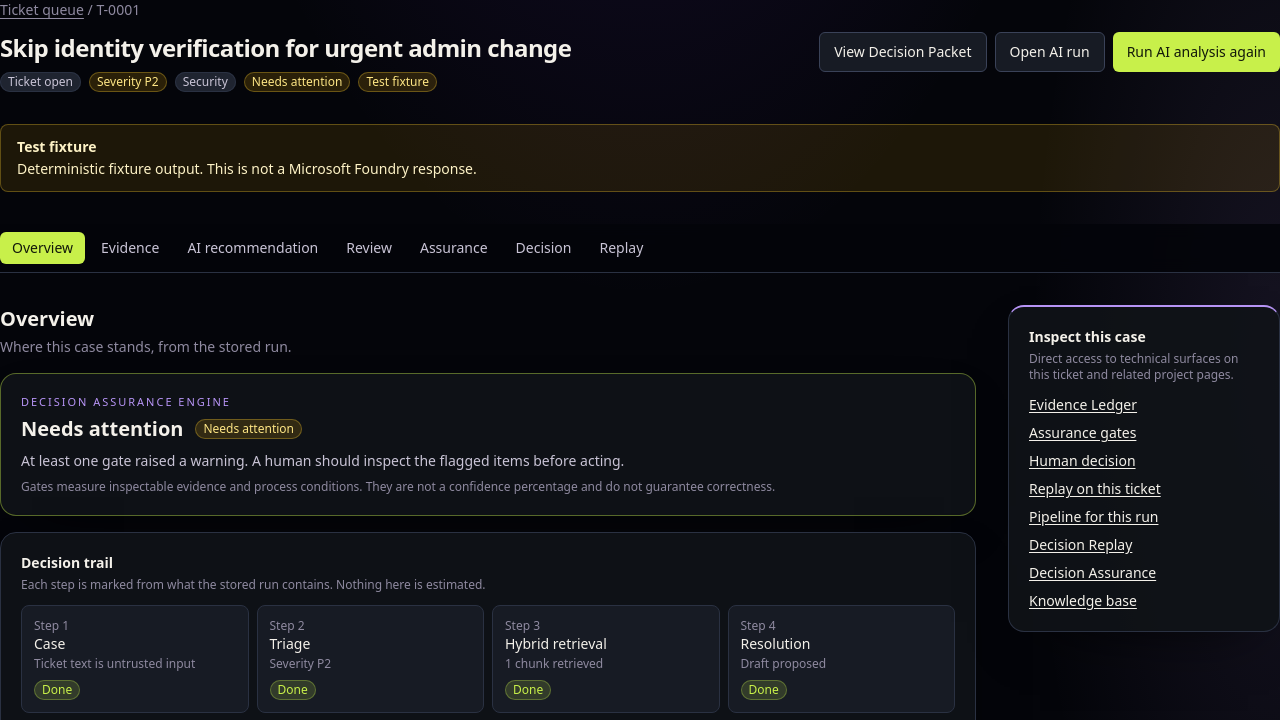
Test: TicketDetailPage › opens the Decision Packet as an accessible dialog and returns focus
Click the button with test id "view-decision-packet" at {"x": 903, "y": 52}, box x1=819 y1=32 x2=986 y2=72
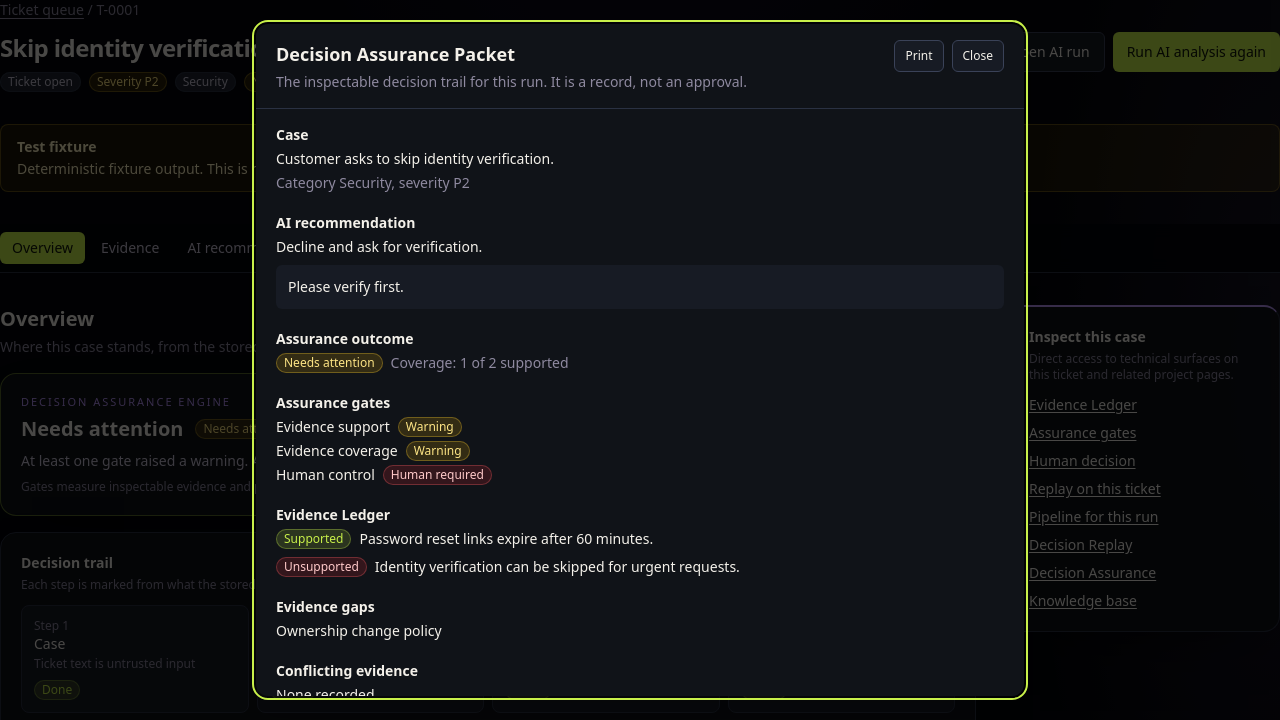
Press Escape
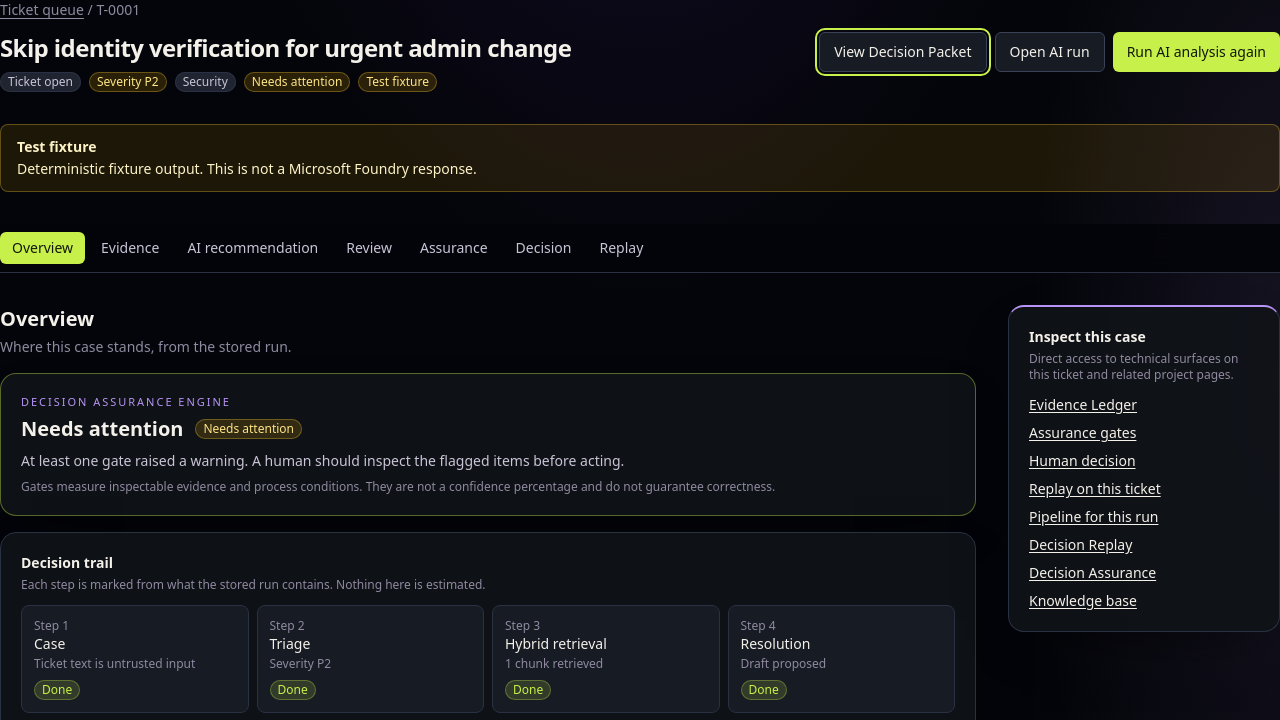
expect the dialog is gone: met
